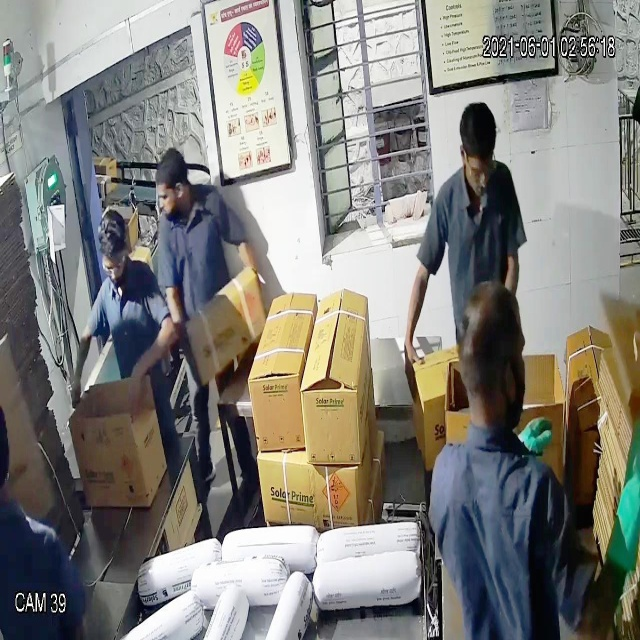Gafas: (98, 252, 129, 284)
